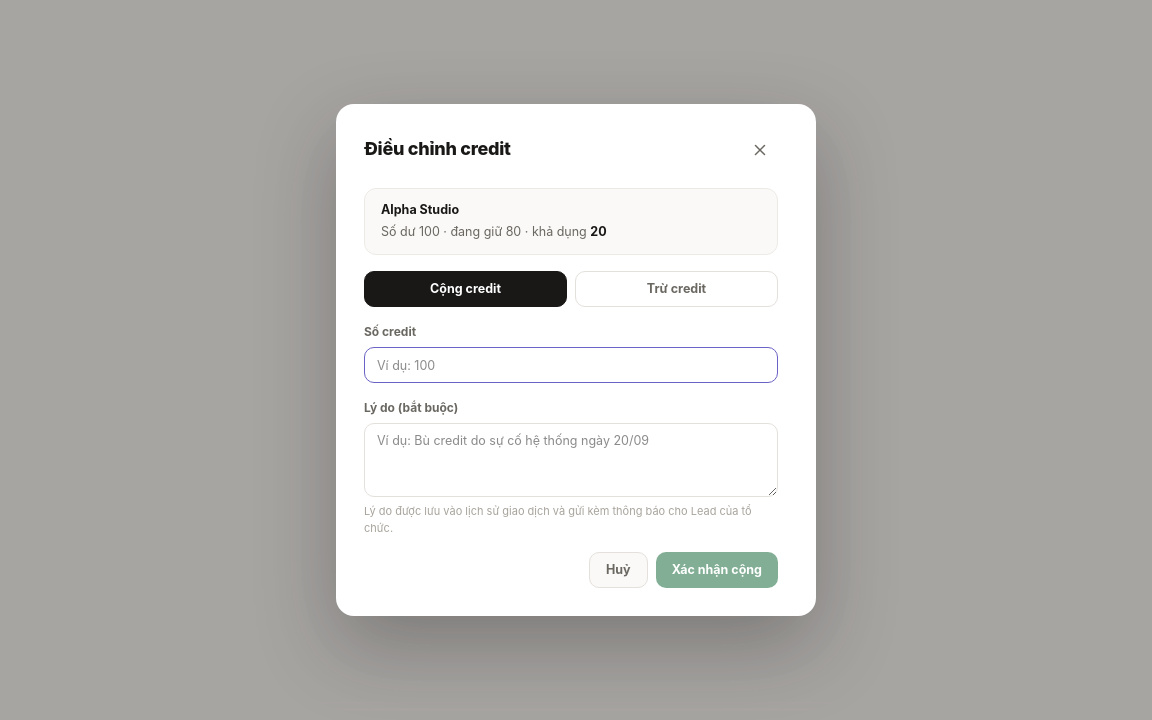
Test: AdjustCreditsDialog — UC-68 › BE từ chối vì số dư không đủ ⇒ báo lỗi dành cho admin, giữ hộp thoại mở
This screenshot has width=1152, height=720.
Click the button "Trừ credit": (676, 289) [575,271,778,307]
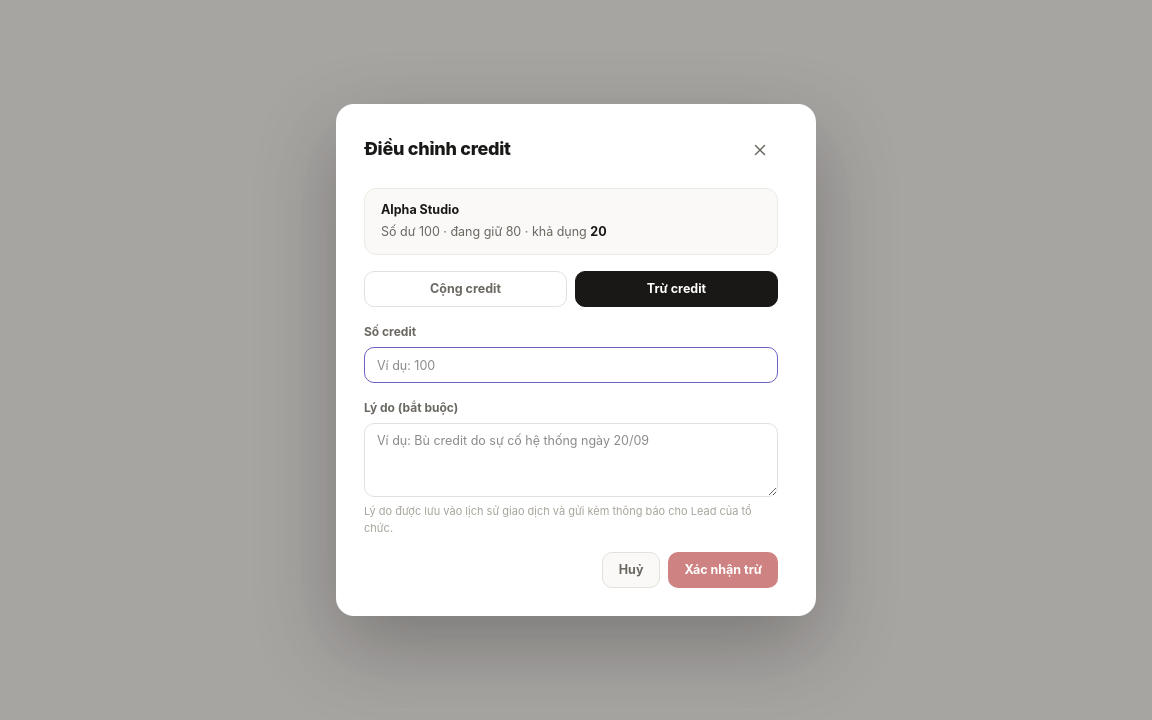
In the field labelled "Số credit": (571, 365) [364,347,778,383], type "10"
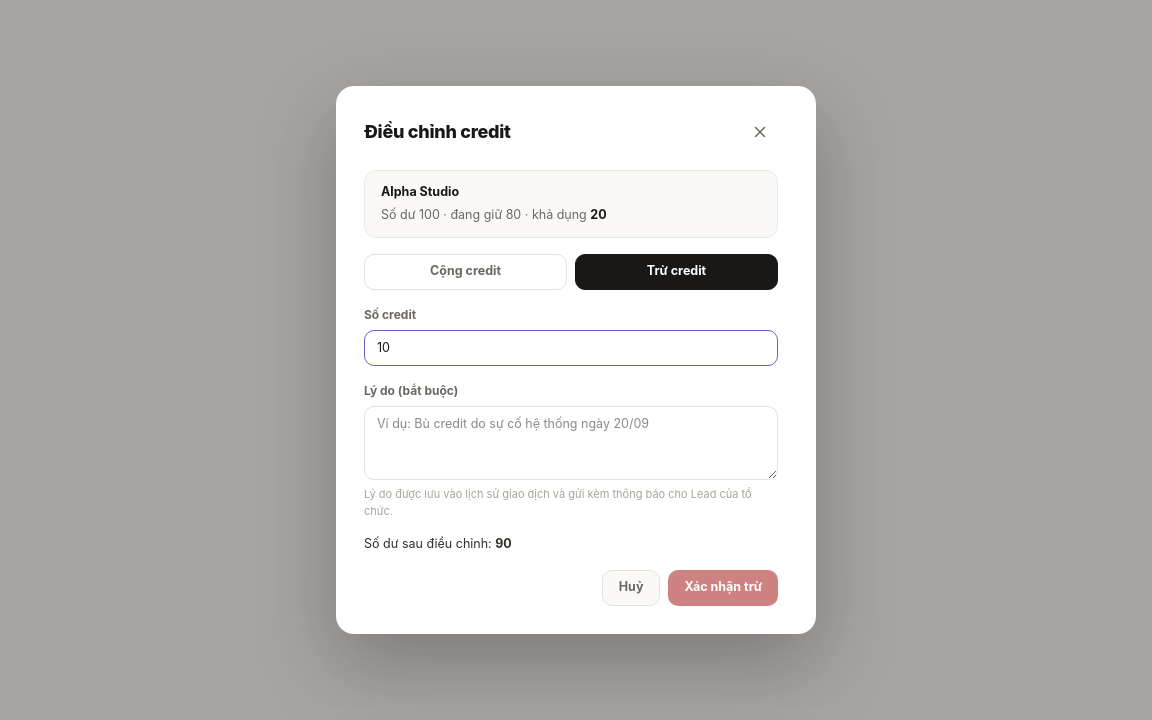
In the text box labelled "Lý do (bắt buộc)": (571, 443) [364,406,778,480], type "Thu hồi"
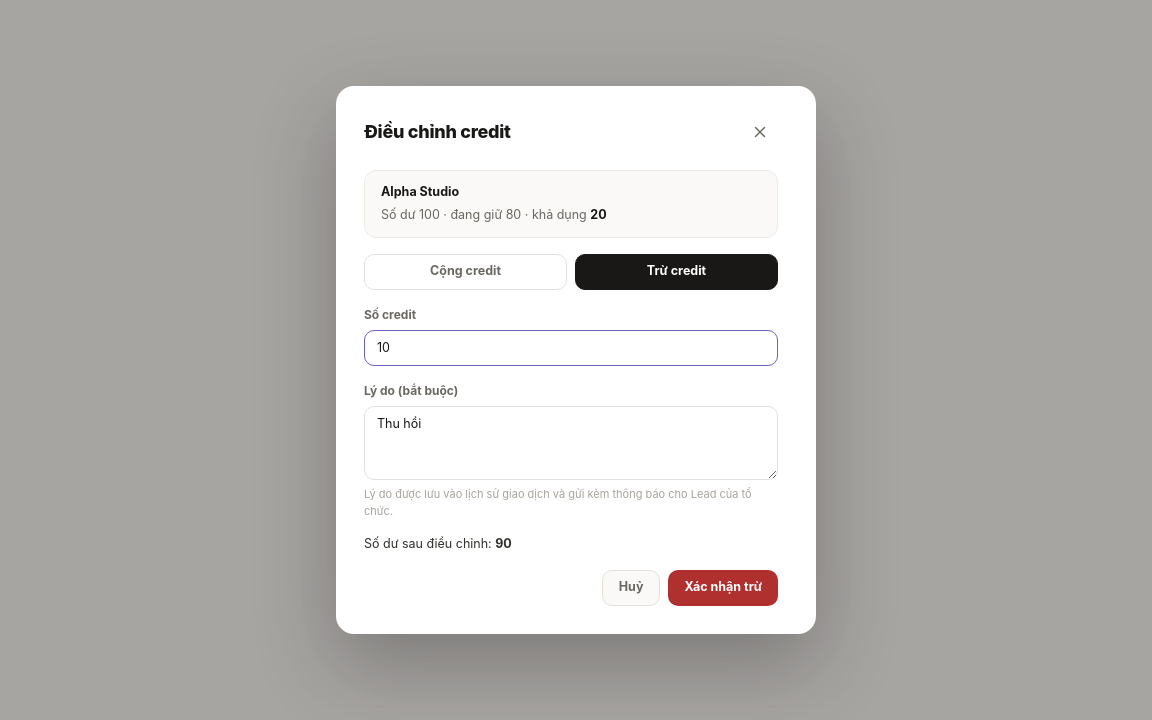
Click the button "Xác nhận trừ": (723, 588) [668,570,778,606]
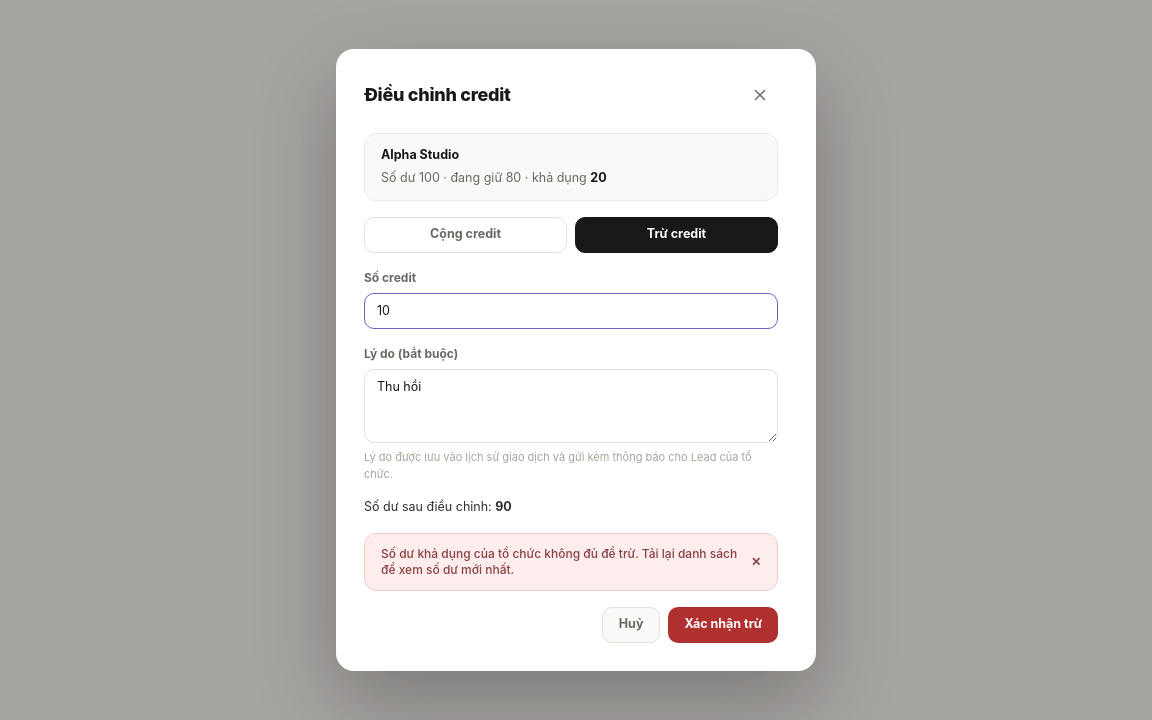
Expected: the text "Số dư khả dụng của tổ chức không đủ để trừ" is shown, [381,546,737,577]
